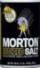grozi_27: (0, 0, 40, 67)
